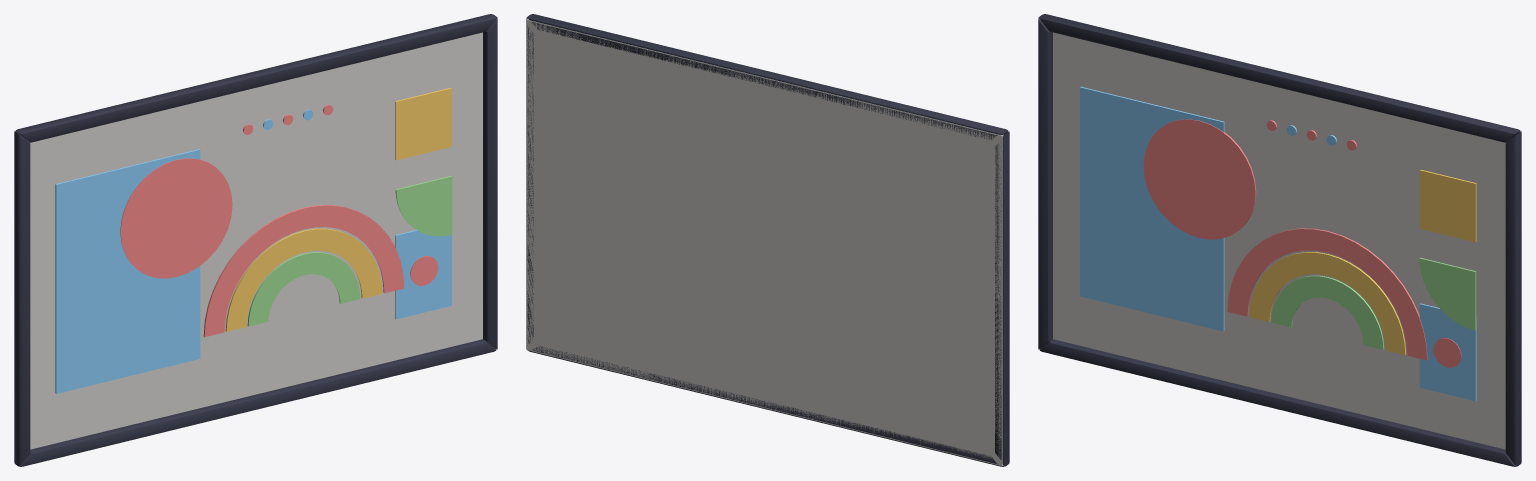
The model's file is wall_art_b.glb.
3 renders of one model, left to right at view 1: azimuth 30°, elevation 25°; view 2: azimuth 150°, elevation 25°; view 3: azimuth 330°, elevation 25°, orthographic.
Parts seen in each view (by area): view 1: canvas, art_sky, frame_charcoal, art_coral, art_butter, art_mint; view 2: canvas, frame_charcoal; view 3: canvas, art_sky, frame_charcoal, art_coral, art_butter, art_mint.
Boxes of the visible parts, left/top/right/bottom form: canvas: left=15, top=32, right=482, bottom=449; art_sky: left=55, top=109, right=451, bottom=393; frame_charcoal: left=14, top=14, right=497, bottom=466; art_coral: left=120, top=104, right=438, bottom=337; art_butter: left=225, top=87, right=451, bottom=331; art_mint: left=247, top=175, right=452, bottom=326; canvas: left=526, top=19, right=1003, bottom=466; frame_charcoal: left=526, top=14, right=1009, bottom=466; canvas: left=1053, top=32, right=1520, bottom=449; art_sky: left=1080, top=86, right=1476, bottom=401; frame_charcoal: left=1038, top=14, right=1521, bottom=466; art_coral: left=1143, top=119, right=1461, bottom=367; art_butter: left=1249, top=169, right=1476, bottom=355; art_mint: left=1271, top=257, right=1476, bottom=349.
Bounding box in the file's own units: 1.2 × 0.8 × 0.03.
